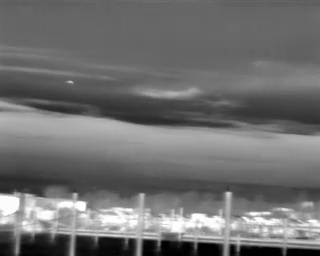BIRD: (64, 77, 77, 89)
